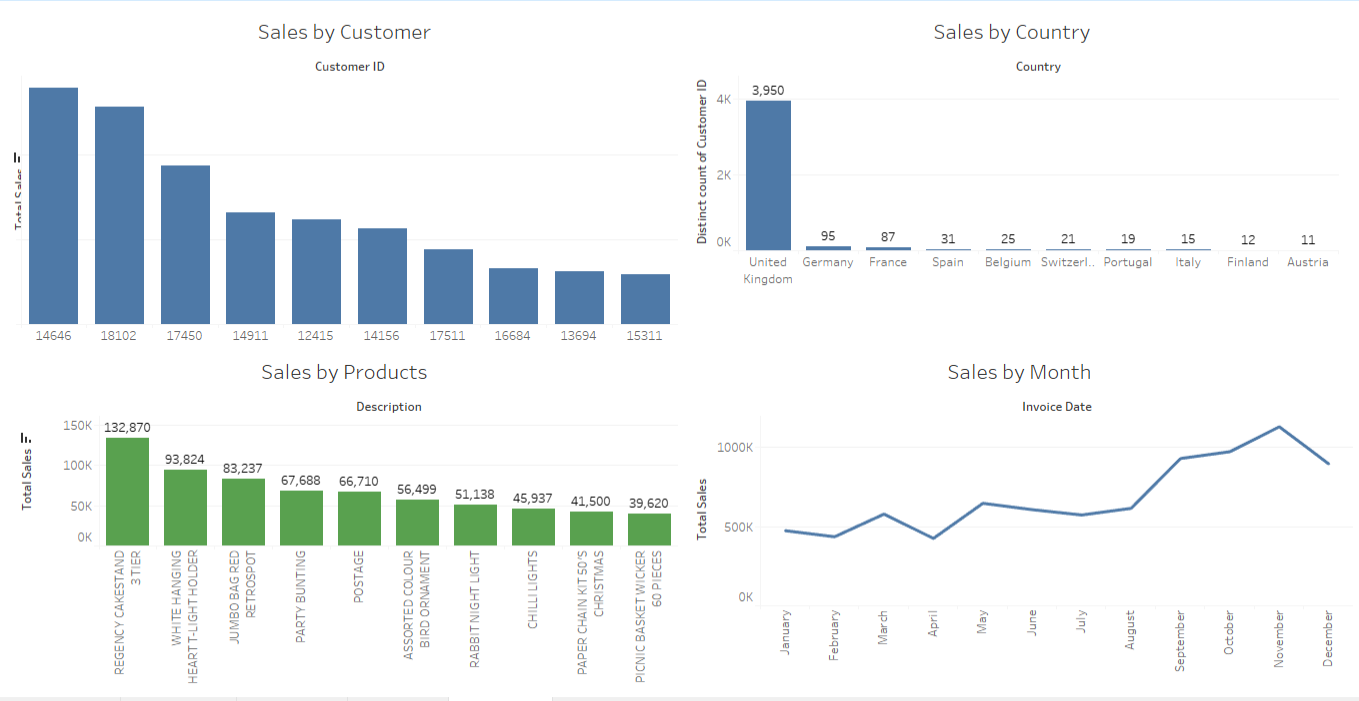

The page's visual inventory and layout, read from the dashboard file:
{"tool":"tableau","page":{"name":"Dashboard 1","canvas":[1000,1000],"units":"permille","ordinal":0},"visuals":[{"type":"worksheet","title":"Sales by Customer","mark":"Automatic","rows":["Calculation_848365615533961216"],"cols":["CustomerID"],"box":[6.9,14.5,442.4,485.5]},{"type":"worksheet","title":"Sales by Products","mark":"Automatic","rows":["Calculation_848365615533961216"],"cols":["Description"],"box":[449.4,14.5,543.7,485.5]},{"type":"worksheet","title":"Sales by Country","mark":"Automatic","rows":["CustomerID"],"cols":["Country"],"box":[6.9,500,442.4,485.5]},{"type":"worksheet","title":"Sales by Month","mark":"Automatic","rows":["Calculation_848365615533961216"],"cols":["InvoiceDate"],"box":[449.4,500,543.7,485.5]}]}

Visuals, with their boxes on the dashboard's canvas, which has no fixed pixel size, in thousandths of its width and height (x1, y1, x2, y2). These are canvas units, not pixel positions in the 1359x701 screenshot, which may show the page scaled, cropped or inside an application window:
"Sales by Customer" worksheet: {"x1": 7, "y1": 14, "x2": 449, "y2": 500}
"Sales by Products" worksheet: {"x1": 449, "y1": 14, "x2": 993, "y2": 500}
"Sales by Country" worksheet: {"x1": 7, "y1": 500, "x2": 449, "y2": 986}
"Sales by Month" worksheet: {"x1": 449, "y1": 500, "x2": 993, "y2": 986}
